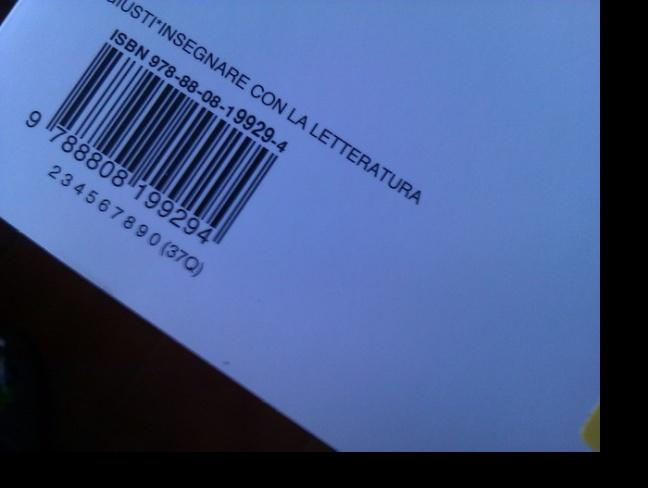Barcode: (21, 39, 279, 249)
